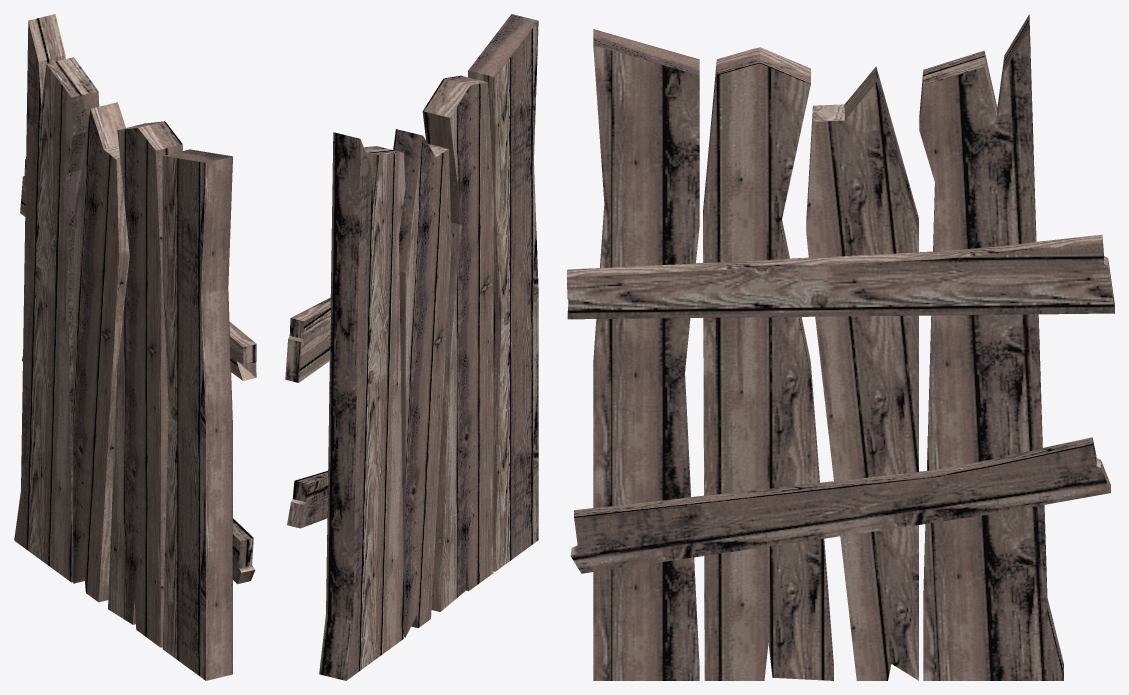
The model's file is Fence.fbx.
The picture shows the model from 3 angles, left to right: view 1: azimuth 30°, elevation 25°; view 2: azimuth 150°, elevation 25°; view 3: azimuth 270°, elevation 25°; orthographic projection. The views are drawn at different scales.
Visible parts, largest first — view 1: Fence_01; view 2: Fence_01; view 3: Fence_01.
Boxes of the visible parts, x1=… form: Fence_01: x1=14, y1=14, x2=256, y2=680; Fence_01: x1=285, y1=14, x2=538, y2=680; Fence_01: x1=567, y1=14, x2=1114, y2=680.
Size of the model in its own units: 17.86 by 226 by 172.
Materials: 1 (1 with a texture image).
